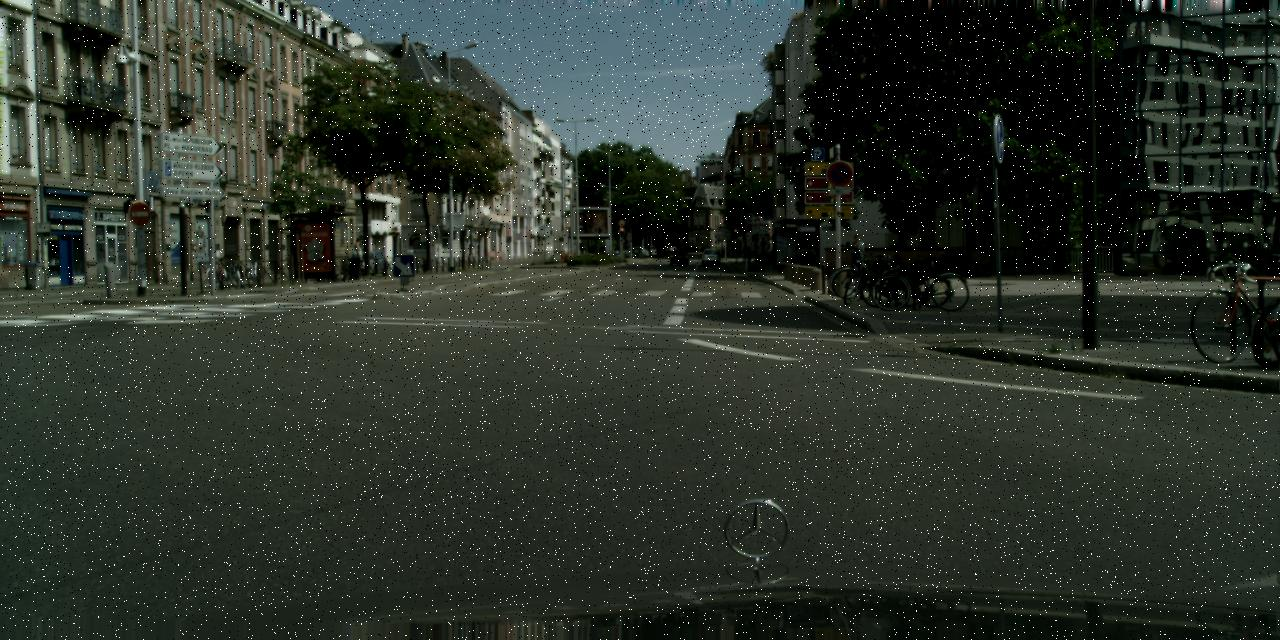ped: (848, 234, 868, 286), (349, 237, 366, 280), (741, 244, 750, 264), (406, 245, 414, 266)
